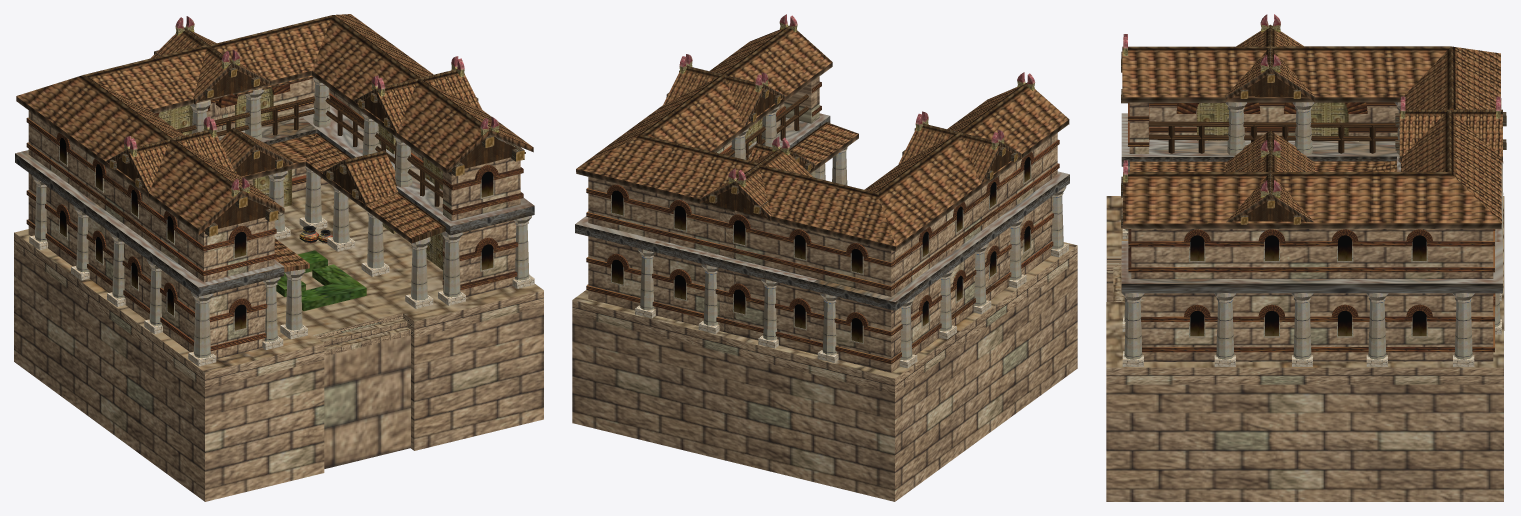
File: palace.dae
3 renders of one model, left to right at view 1: azimuth 30°, elevation 25°; view 2: azimuth 150°, elevation 25°; view 3: azimuth 270°, elevation 25°, orthographic. The views are drawn at different scales.
Parts seen in each view (by area): view 1: palace; view 2: palace; view 3: palace.
Part boxes in pixels (<box>): palace: <box>14,14,543,501</box>; palace: <box>572,14,1077,501</box>; palace: <box>1106,14,1506,501</box>.
Size of the model in its own units: 27.54 by 26.97 by 23.6.
